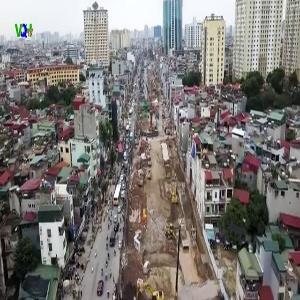drone: (197, 190, 275, 268)
